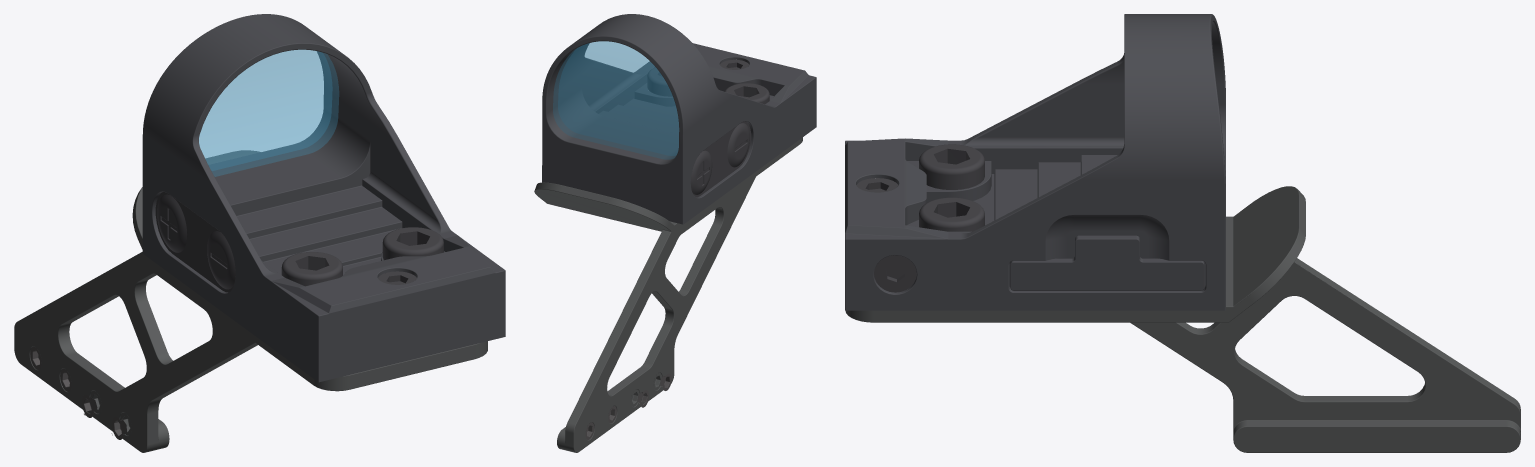
Rendered from framemountedoptic.glb.
The picture shows the model from 3 angles, left to right: view 1: azimuth 30°, elevation 25°; view 2: azimuth 150°, elevation 25°; view 3: azimuth 270°, elevation 25°; orthographic projection. The views are drawn at different scales.
Visible parts, largest first — view 1: cmore, frame optic mount-2; view 2: cmore, frame optic mount-2; view 3: cmore, frame optic mount-2.
Part boxes in pixels (x1,y1,x2,y2): cmore: (142, 14, 505, 382); frame optic mount-2: (14, 150, 487, 452); cmore: (542, 14, 816, 224); frame optic mount-2: (534, 137, 802, 452); cmore: (845, 14, 1225, 310); frame optic mount-2: (845, 186, 1520, 452).
Size of the model in its own units: 0.0331 by 0.0708 by 0.094.
